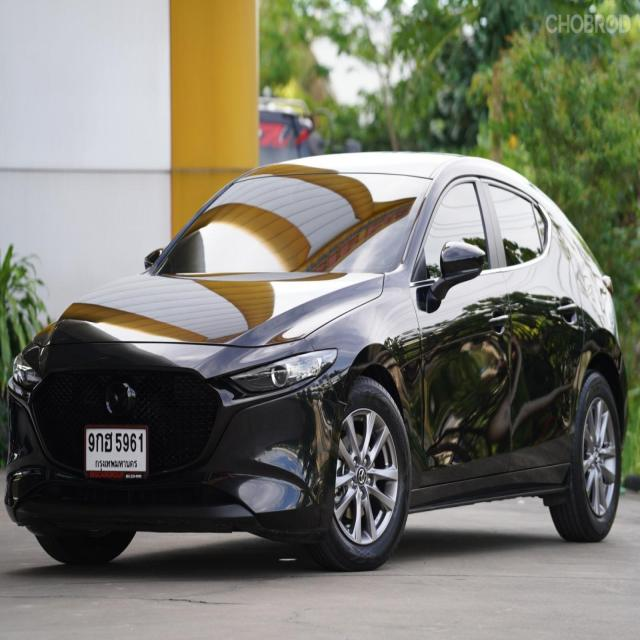license_plate: (82, 421, 151, 486)
